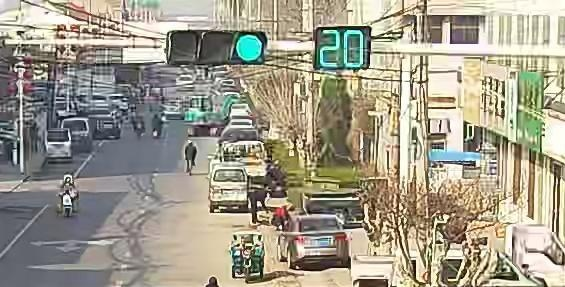green: (234, 34, 265, 63)
greentime: (318, 27, 366, 69)
